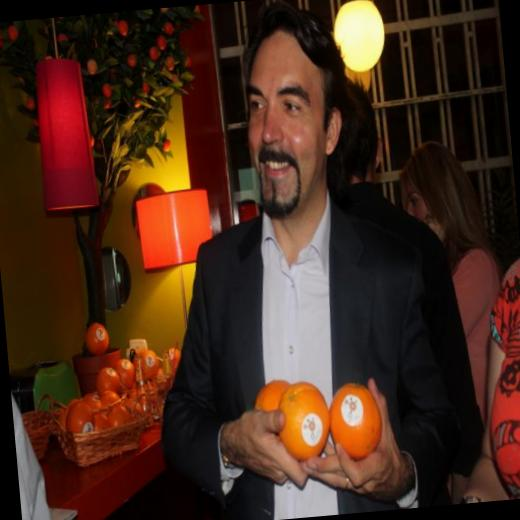Grape: (270, 386, 334, 465), (332, 383, 386, 471), (254, 374, 294, 431), (84, 322, 112, 356), (98, 360, 124, 392), (66, 398, 89, 426), (114, 354, 132, 388), (82, 390, 104, 416), (158, 345, 178, 372), (142, 344, 156, 380), (107, 400, 124, 423), (88, 410, 108, 429)
